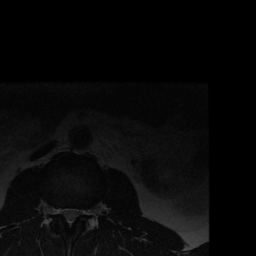CCS_normal: (67, 204, 73, 231)
LFS_stenosis: (80, 203, 87, 221)
LLS_stenosis: (73, 203, 80, 223)
RFS_stenosis: (54, 202, 61, 220)
RLS_stenosis: (61, 202, 67, 222)
